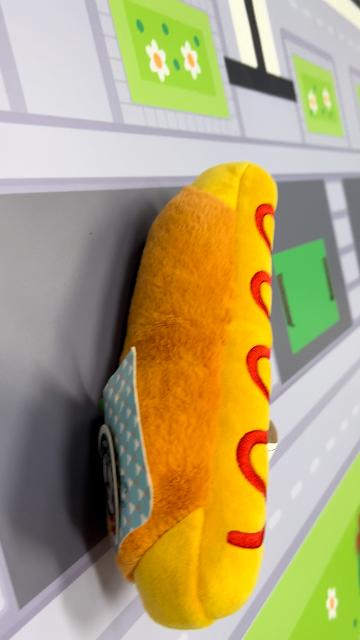hotdog: (102, 160, 280, 632)
